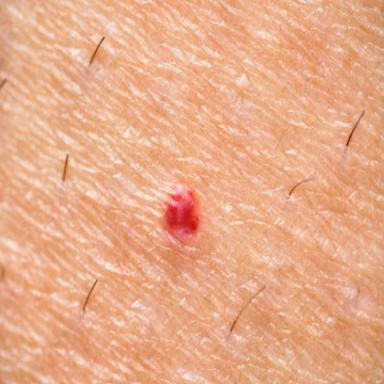Hemangiome: (166, 186, 199, 233)
